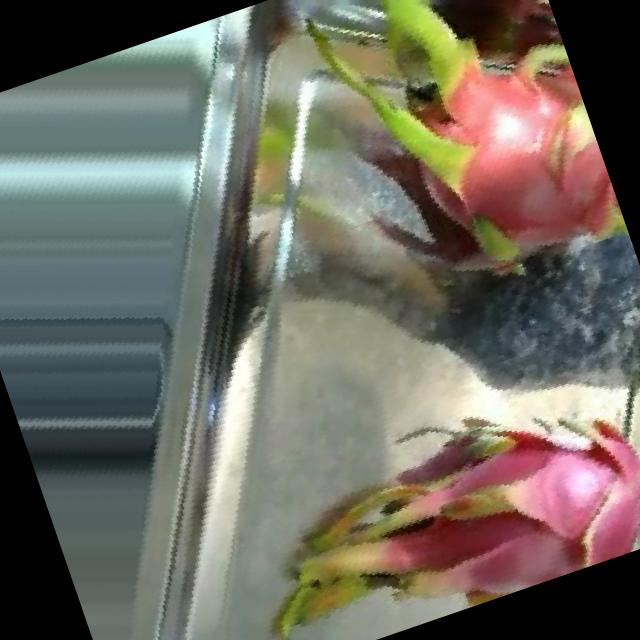Fruit: (387, 0, 570, 108)
